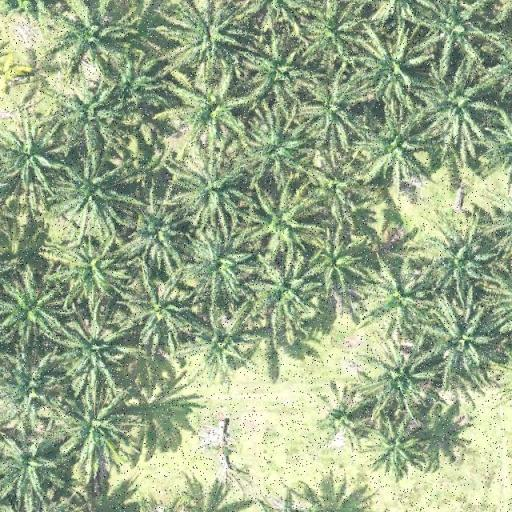Ganoderma: (321, 400, 360, 438)
